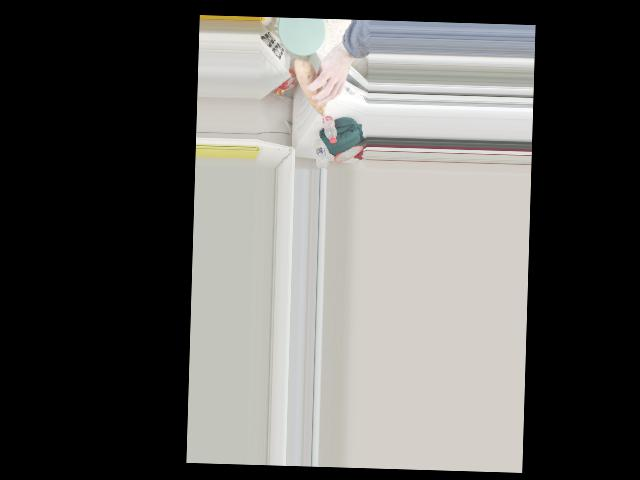sweet_potato: (294, 68, 336, 112)
